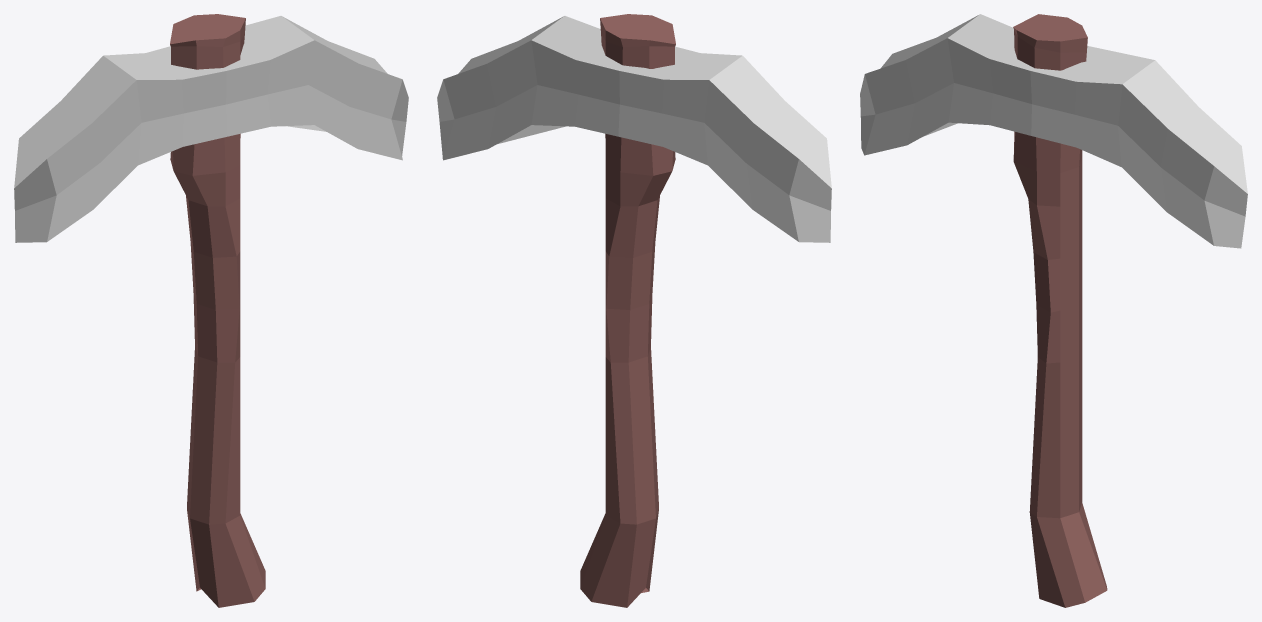
File: pickaxe.fbx
3 renders of one model, left to right at view 1: azimuth 30°, elevation 25°; view 2: azimuth 150°, elevation 25°; view 3: azimuth 330°, elevation 25°, orthographic.
Visible parts, largest first — view 1: Cylinder.001, Cylinder; view 2: Cylinder.001, Cylinder; view 3: Cylinder.001, Cylinder.
Boxes of the visible parts, x1,y1,x2,y2 form: Cylinder.001: (14,16,408,242); Cylinder: (170,14,265,607); Cylinder.001: (437,16,831,242); Cylinder: (580,14,675,607); Cylinder.001: (860,14,1247,248); Cylinder: (1013,14,1107,607).
Size of the model in its own units: 168 by 232 by 28.78.
